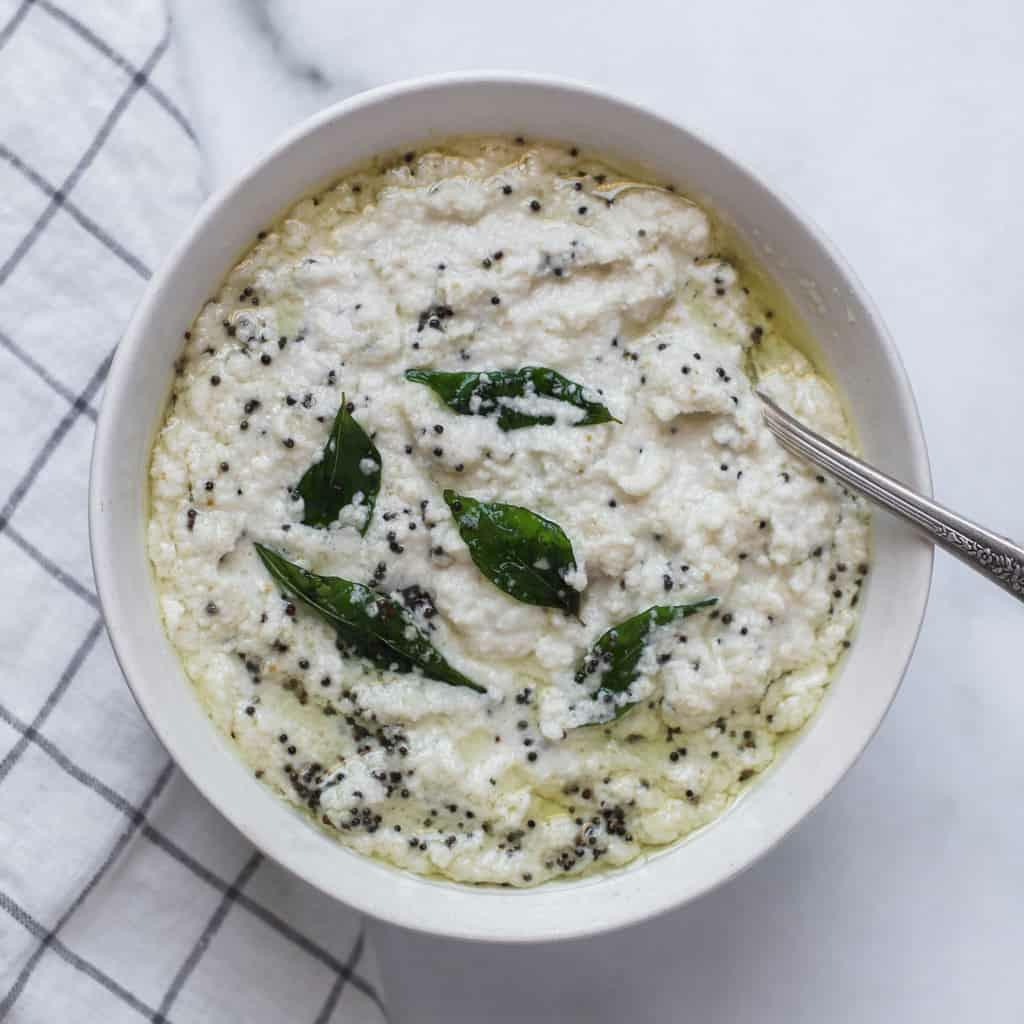CoconutChutney: (153, 144, 865, 884)
